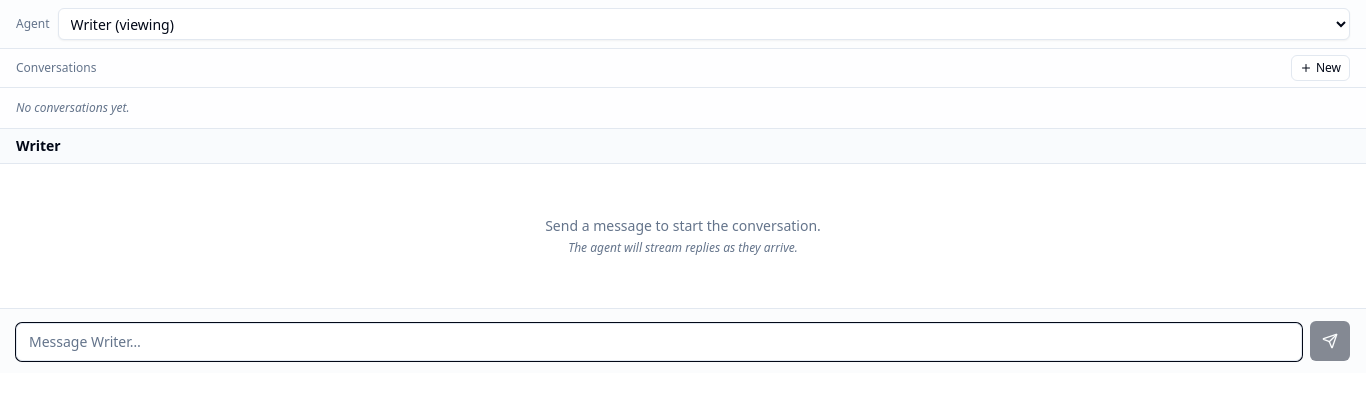
Test: FloatingChatPanel — Sub-AC 4 of AC 5: new-thread button › surfaces an inline error banner when create fails
The image size is (1366, 408).
Click the button "New".
click(1320, 68)  # box [1291,55,1350,81]
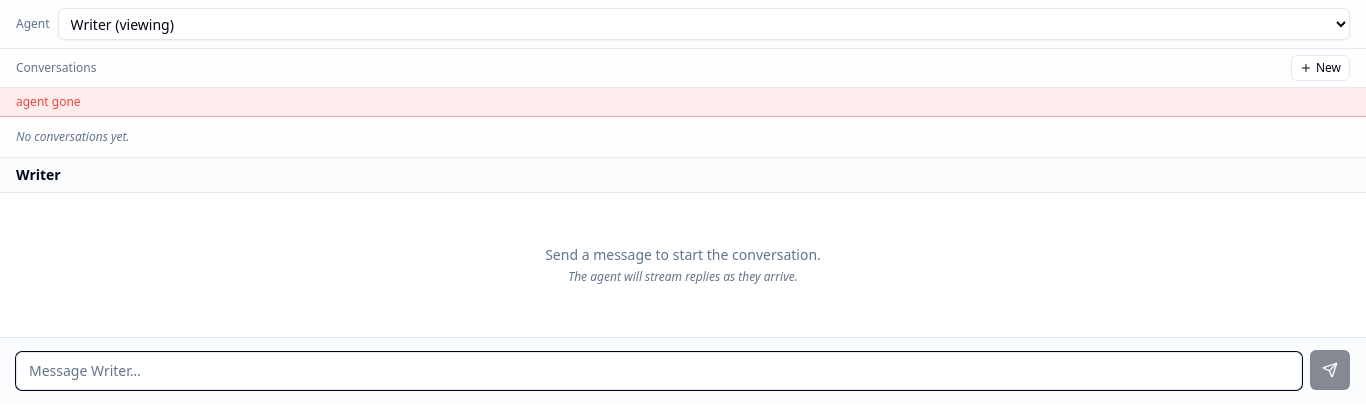
Expected: the message "agent gone" is shown, [0,88,1365,117]
